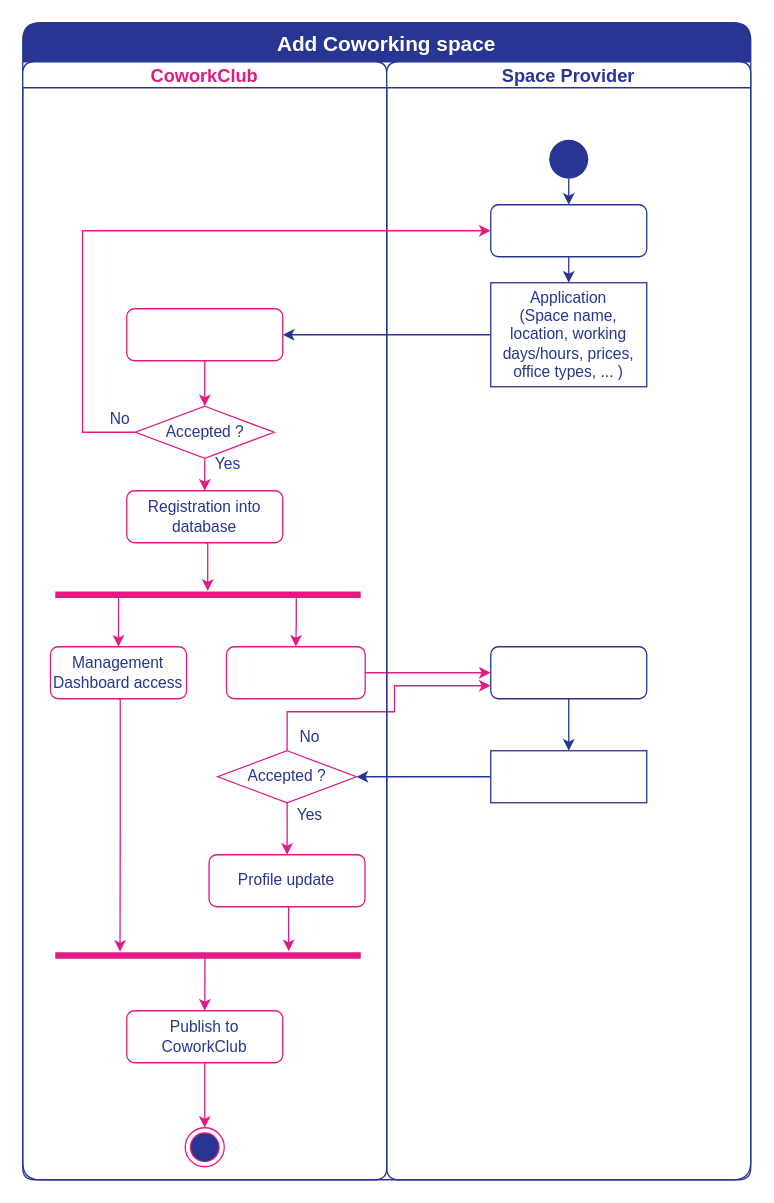
This 774x1203 diagram has some shape labels left out. The centre of each missing label's shape, as x and y in pixels:
"Application Validation" belongs at point (204, 334).
"Images, descriptions, ..." belongs at point (568, 776).
"Profile creation" belongs at point (295, 672).
"Profile editing" belongs at point (568, 672).
"Request to add Space" belongs at point (568, 230).
